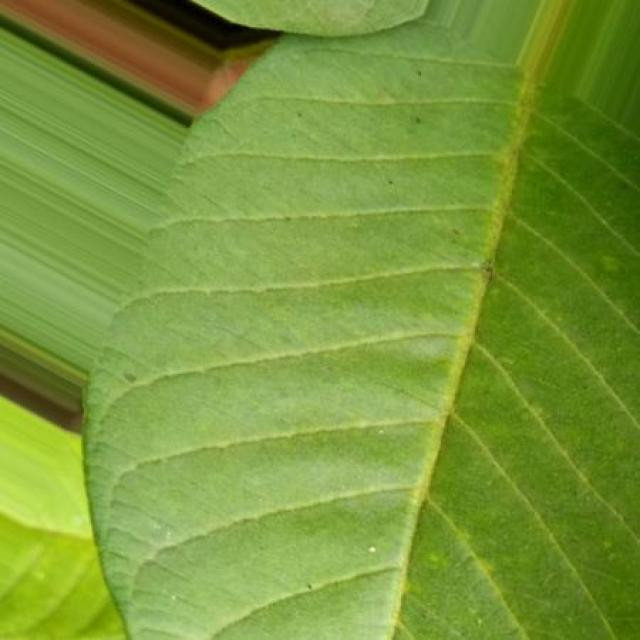Disease Free: (86, 24, 640, 639)
